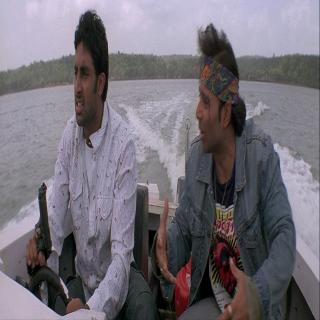gun: (23, 182, 53, 270)
